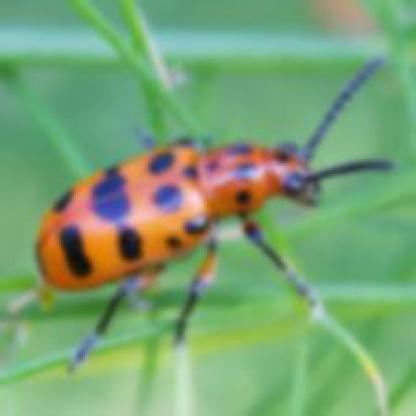blister beetle: (38, 59, 395, 378)
